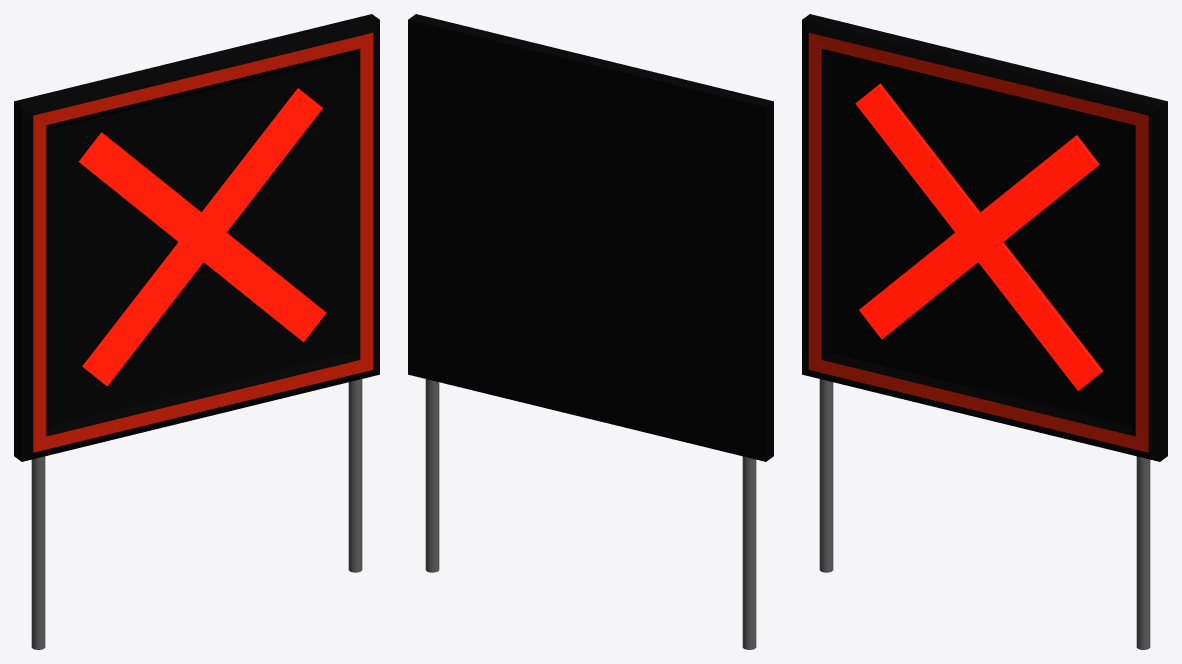
File: UpperBlockade.fbx
The picture shows the model from 3 angles, left to right: view 1: azimuth 30°, elevation 25°; view 2: azimuth 150°, elevation 25°; view 3: azimuth 330°, elevation 25°; orthographic projection.
Parts seen in each view (by area): view 1: Cube, Cube.001, Cylinder; view 2: Cube, Cylinder; view 3: Cube, Cube.001, Cylinder.
Boxes of the visible parts, x1,y1,x2,y2 form: Cube: (14,14,379,461); Cube.001: (78,88,326,386); Cylinder: (31,379,362,649); Cube: (408,14,773,461); Cylinder: (425,379,756,649); Cube: (802,14,1167,461); Cube.001: (855,83,1102,390); Cylinder: (819,379,1150,649).
Size of the model in its own units: 380 by 556 by 19.77.
